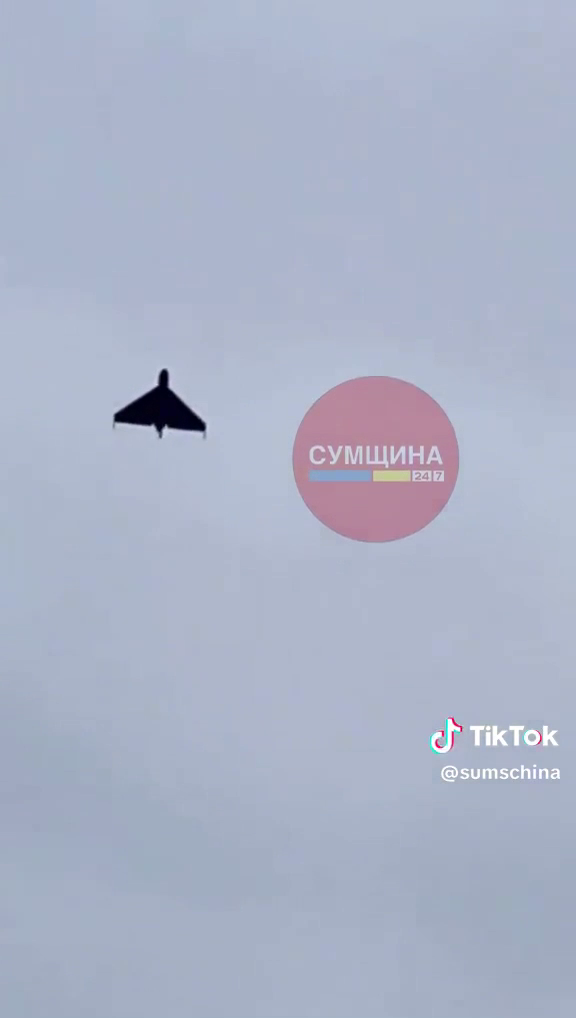shahed: (99, 362, 217, 454)
